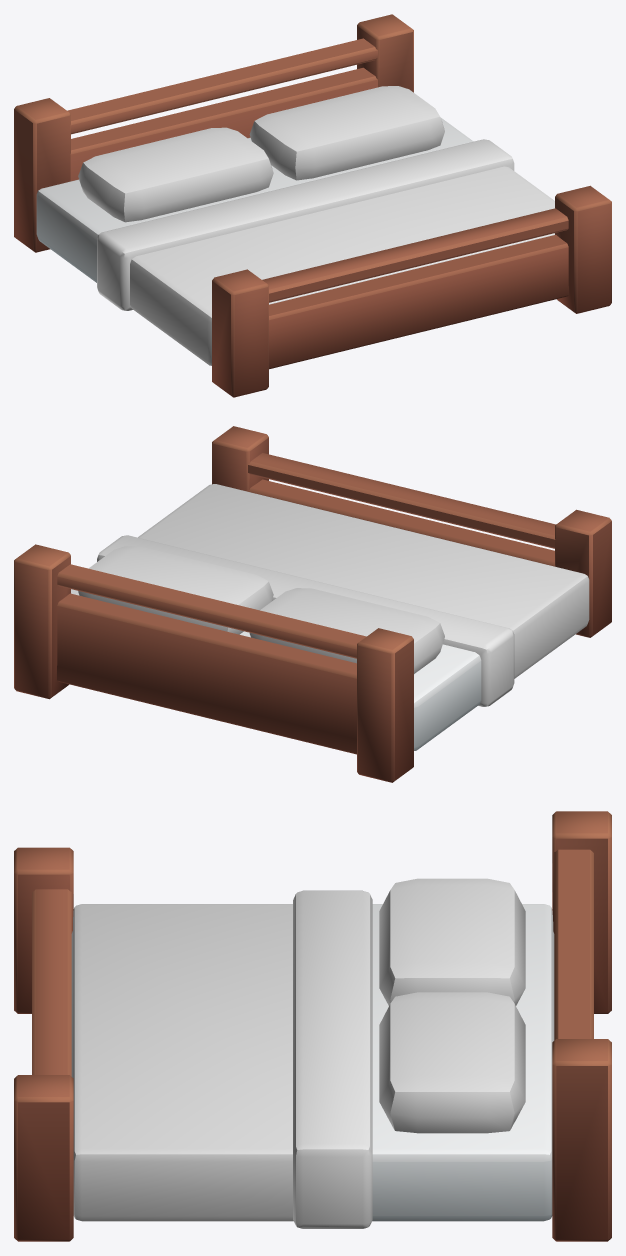
The model's file is bedDoubleB.glb.
The picture shows the model from 3 angles, top to bottom: view 1: azimuth 30°, elevation 25°; view 2: azimuth 150°, elevation 25°; view 3: azimuth 270°, elevation 25°; orthographic projection. The views are drawn at different scales.
Parts seen in each view (by area): view 1: bedDoubleB_base, bedDoubleB_colourA, bedDoubleB_colourB, bedDoubleB_base_white; view 2: bedDoubleB_base, bedDoubleB_colourA, bedDoubleB_colourB, bedDoubleB_base_white; view 3: bedDoubleB_colourA, bedDoubleB_base, bedDoubleB_colourB, bedDoubleB_base_white.
Part boxes in pixels (x1,y1,x2,y2): bedDoubleB_base: [14, 14, 611, 397]; bedDoubleB_colourA: [97, 139, 554, 365]; bedDoubleB_colourB: [78, 86, 444, 222]; bedDoubleB_base_white: [36, 117, 473, 282]; bedDoubleB_base: [14, 426, 611, 782]; bedDoubleB_colourA: [97, 484, 589, 706]; bedDoubleB_colourB: [78, 546, 444, 673]; bedDoubleB_base_white: [71, 589, 481, 750]; bedDoubleB_colourA: [71, 890, 372, 1228]; bedDoubleB_base: [14, 811, 611, 1241]; bedDoubleB_colourB: [379, 878, 525, 1133]; bedDoubleB_base_white: [372, 904, 554, 1221].
Bounding box in the file's own units: 3.1 × 1 × 3.
Materials: 4 (2 with a texture image).
